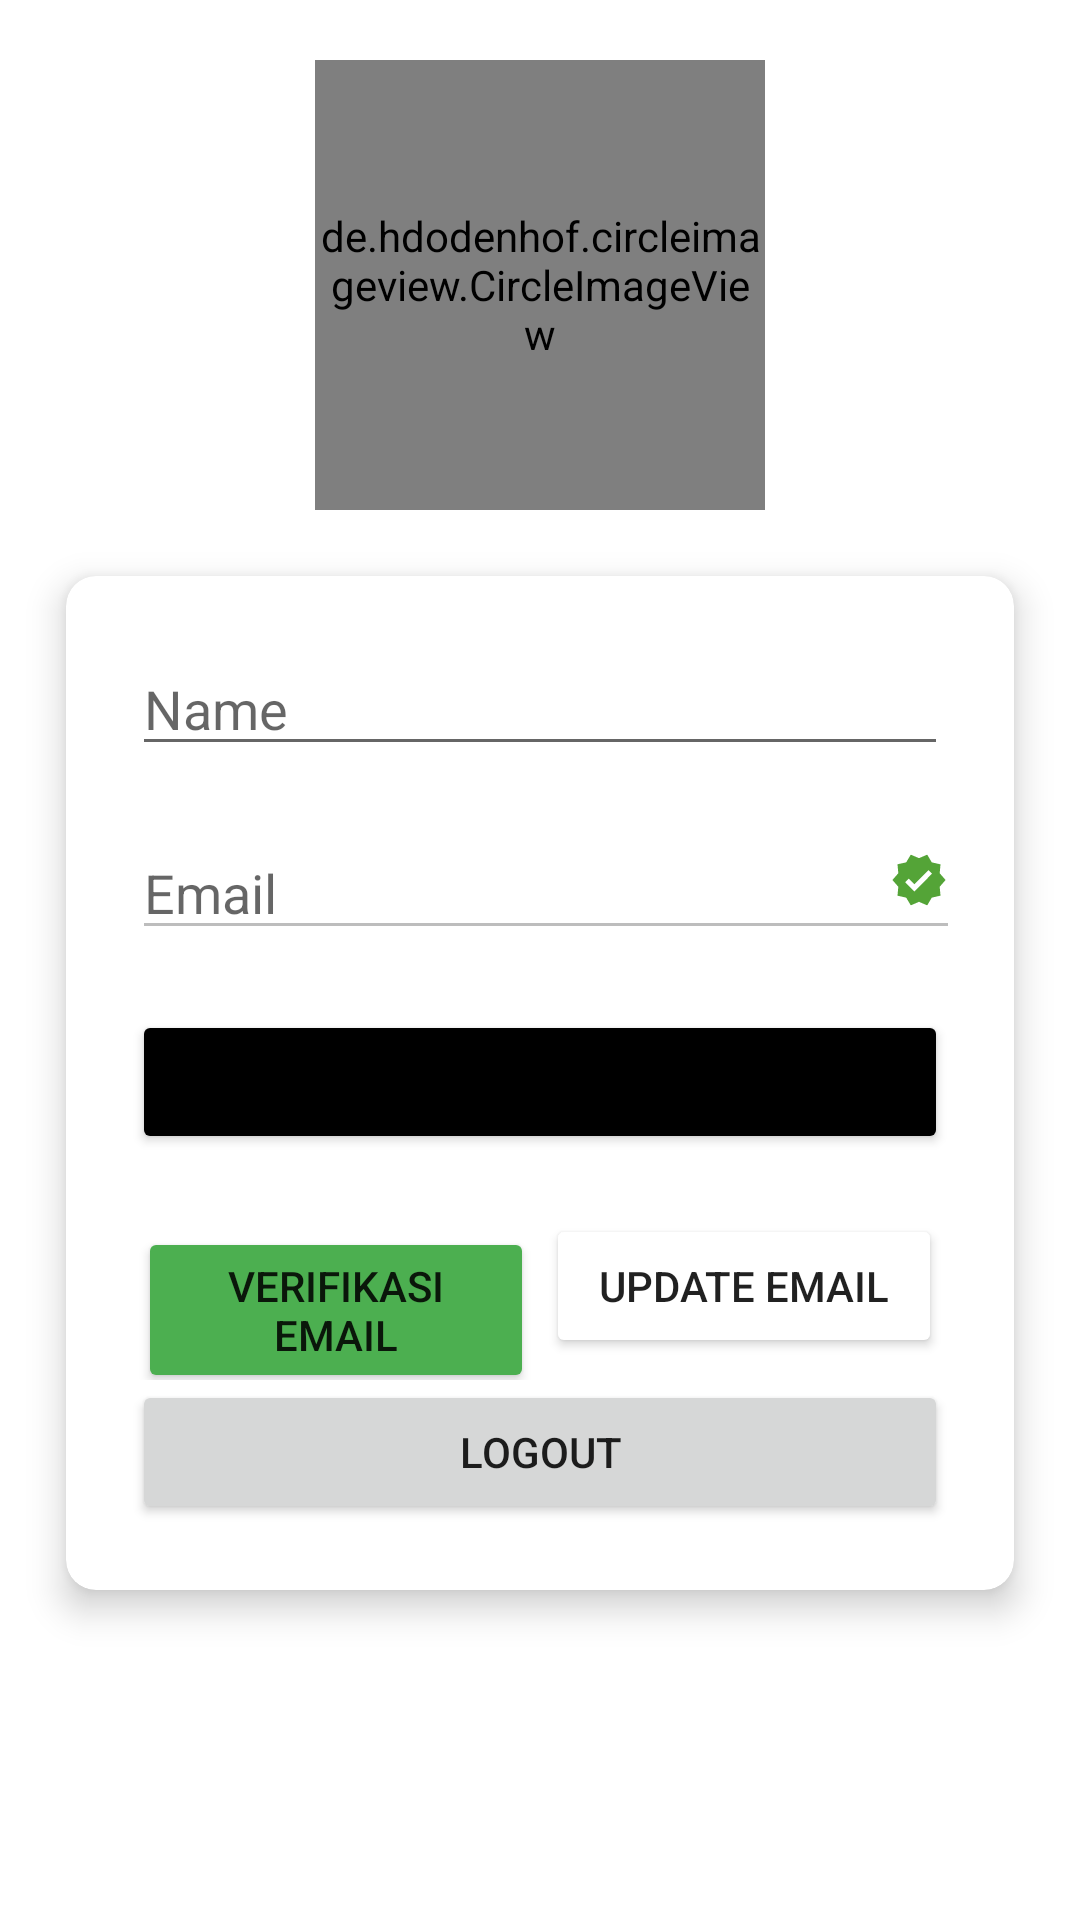

Icons on this 1080px x 1920px Android screen, each with the point to tap as (x,y):
verifikasi: (919,880)
